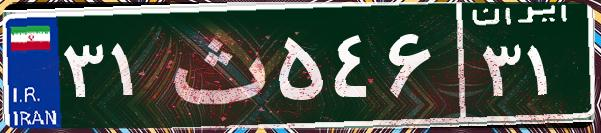1: (110, 28, 158, 105), (525, 38, 570, 115)
3: (57, 26, 110, 107), (475, 38, 525, 113)
4: (330, 28, 385, 110)
5: (273, 28, 330, 110)
6: (385, 28, 445, 110)
ث: (158, 15, 273, 115)
